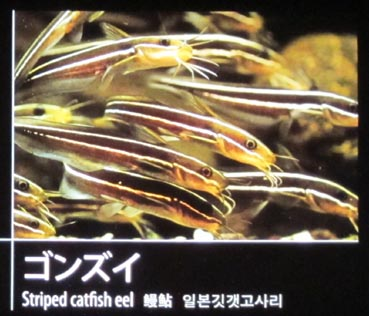gonzui: (116, 85, 282, 178), (38, 31, 212, 81)
